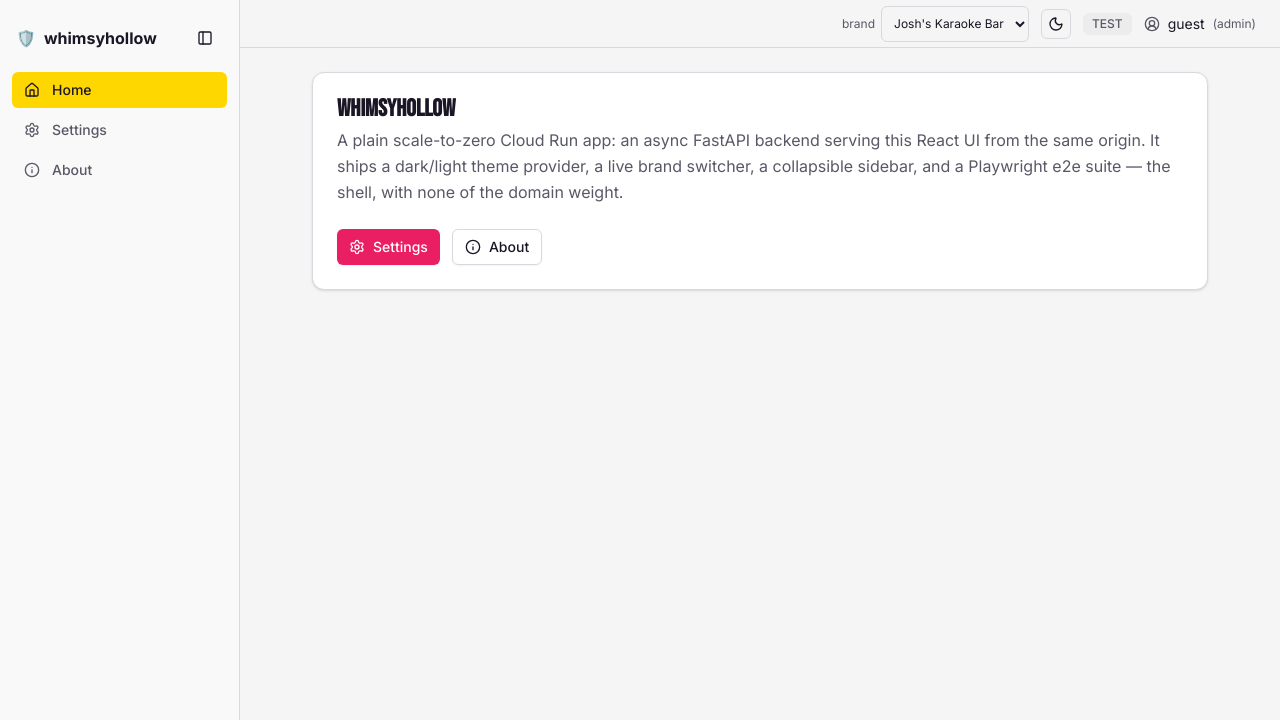
it: App shell › navigates Home -> About via the sidebar links
The width and height of the screenshot is (1280, 720).
Expected: the heading "whimsyhollow" is shown, top-left (337, 94), bottom-right (455, 123)
Click the link "About" below "Home".
click(58, 170)  # box top-left (24, 161), bottom-right (92, 178)
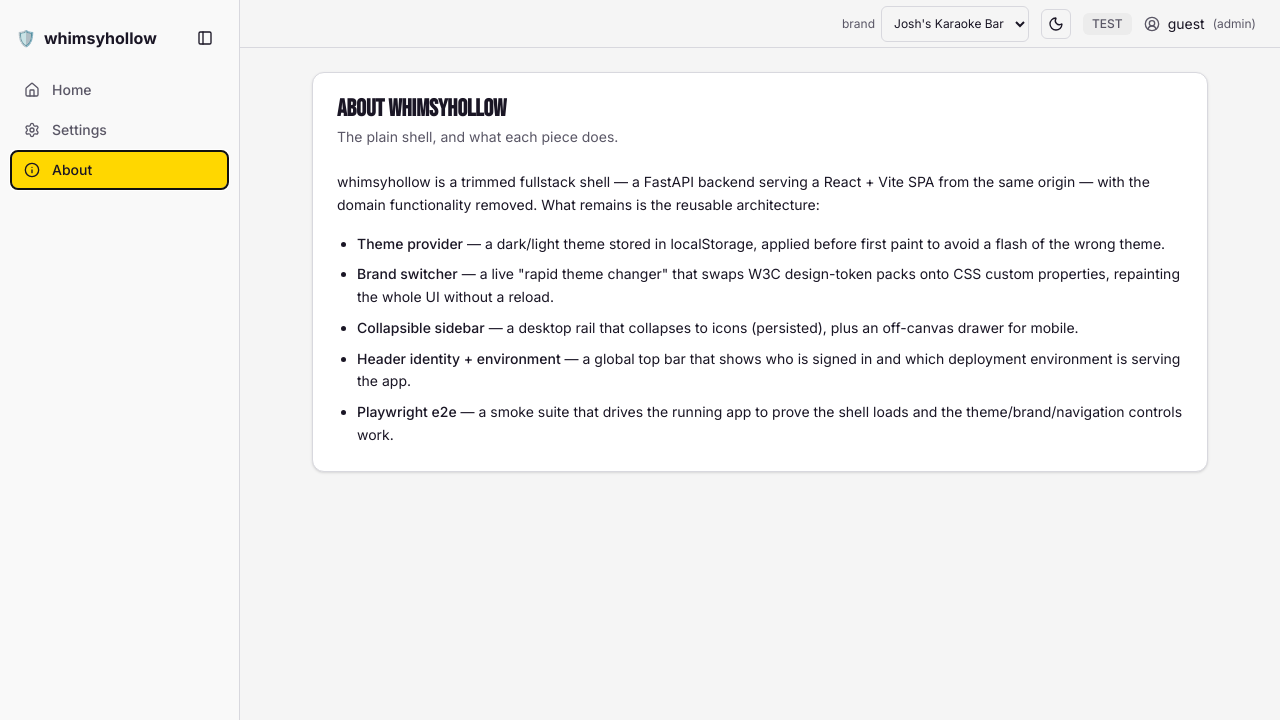
Now the heading "About whimsyhollow" is shown, box top-left (337, 94), bottom-right (506, 123)
